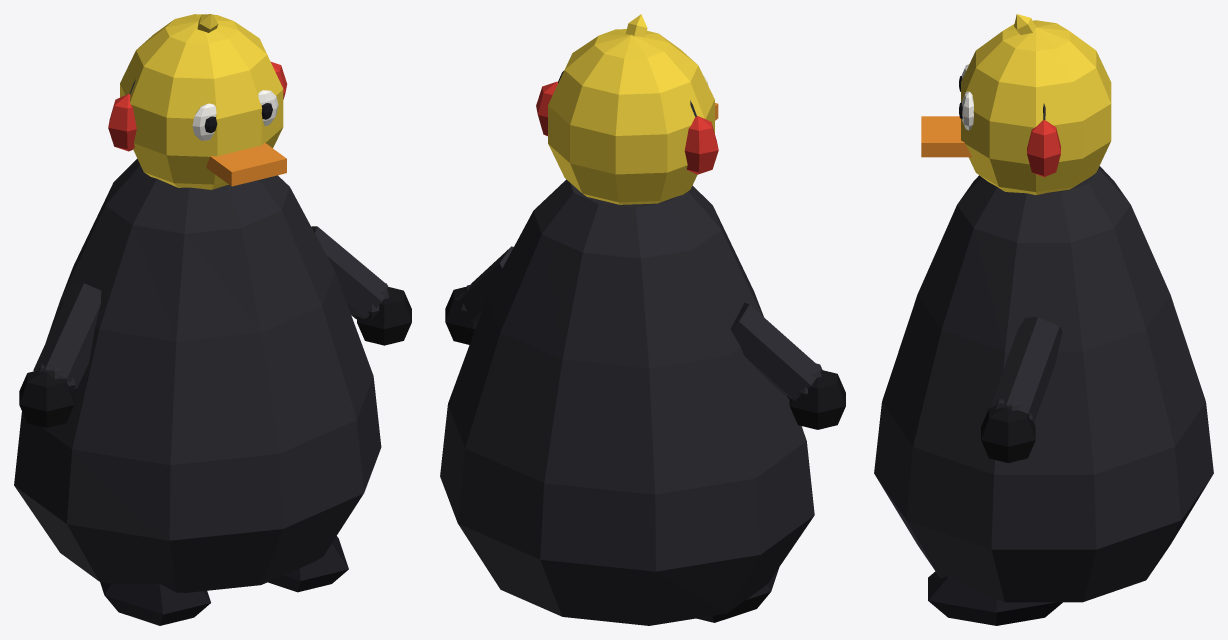
Rendered from npc_ladron_pato.glb.
3 renders of one model, left to right at view 1: azimuth 30°, elevation 25°; view 2: azimuth 150°, elevation 25°; view 3: azimuth 270°, elevation 25°, orthographic. The views are drawn at different scales.
Visible parts, largest first — view 1: body_robber_black, head_mask_duck, arms_robber_black, legs_black, arms_glove_black (×2), face_mask_duck_beak, head_ear_muff, face_white; view 2: body_robber_black, head_mask_duck, arms_robber_black, arms_glove_black (×2), head_ear_muff (×2), legs_black; view 3: body_robber_black, head_mask_duck, arms_robber_black, legs_black, arms_glove_black, face_mask_duck_beak, head_ear_muff.
Boxes of the visible parts, left/top/right/bottom form: body_robber_black: left=14, top=158, right=381, bottom=592; head_mask_duck: left=120, top=14, right=283, bottom=189; arms_robber_black: left=33, top=226, right=389, bottom=392; legs_black: left=100, top=536, right=348, bottom=625; arms_glove_black (×2): left=19, top=287, right=411, bottom=427; face_mask_duck_beak: left=206, top=143, right=286, bottom=186; head_ear_muff: left=108, top=94, right=136, bottom=151; face_white: left=192, top=90, right=278, bottom=140; body_robber_black: left=440, top=179, right=814, bottom=625; head_mask_duck: left=548, top=14, right=714, bottom=204; arms_robber_black: left=460, top=246, right=822, bottom=401; arms_glove_black (×2): left=445, top=286, right=845, bottom=429; head_ear_muff (×2): left=536, top=81, right=718, bottom=174; legs_black: left=696, top=567, right=779, bottom=622; body_robber_black: left=874, top=166, right=1213, bottom=602; head_mask_duck: left=961, top=14, right=1111, bottom=195; arms_robber_black: left=991, top=317, right=1062, bottom=422; legs_black: left=928, top=571, right=1062, bottom=625; arms_glove_black: left=981, top=407, right=1035, bottom=462; face_mask_duck_beak: left=921, top=116, right=971, bottom=157; head_ear_muff: left=1027, top=120, right=1060, bottom=176.
Size of the model in its own units: 1.14 by 1.59 by 0.86.
